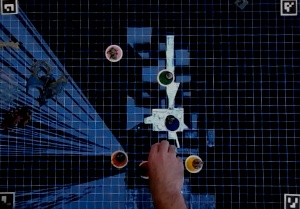blue: (164, 113, 180, 131)
green: (157, 68, 174, 85)
orange: (105, 148, 130, 168)
pink: (106, 42, 124, 63)
red: (136, 160, 154, 180)
yellow: (183, 151, 206, 173)
